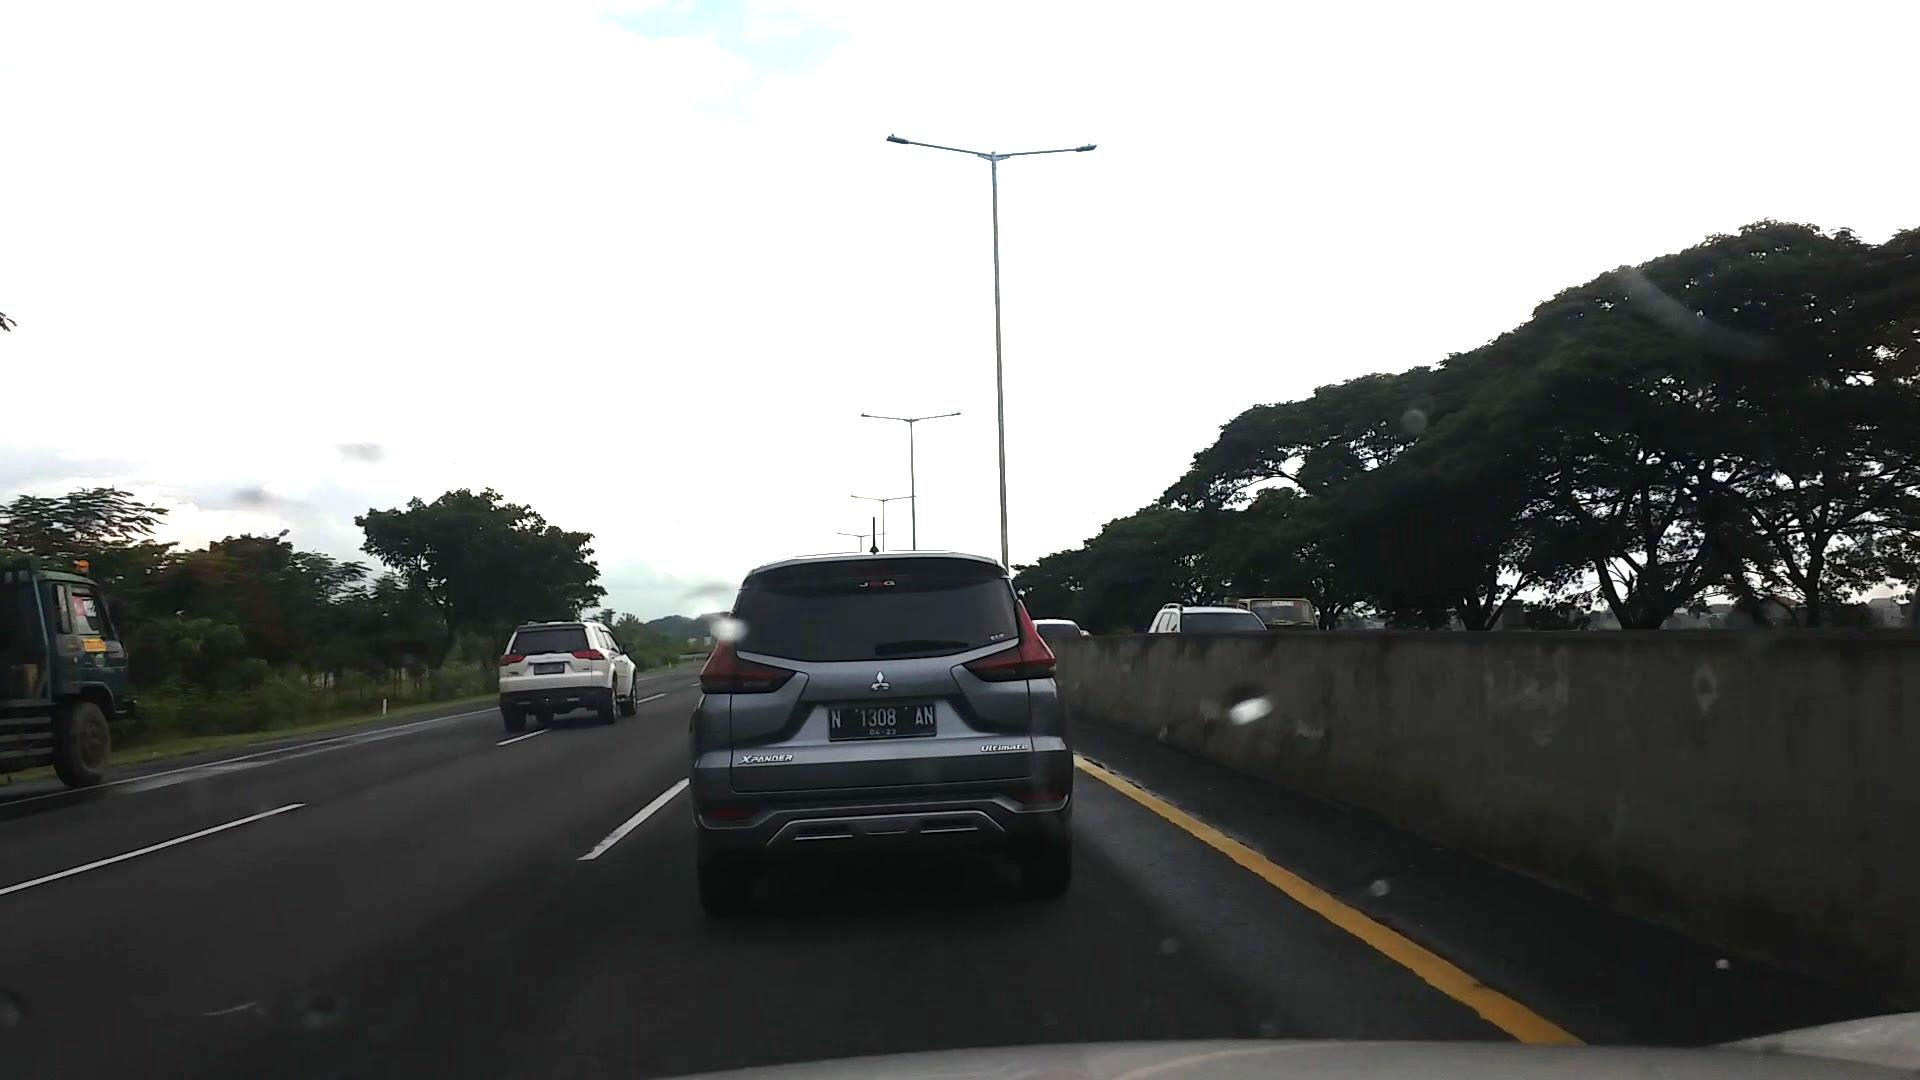plate_positive: (829, 703, 936, 738)
